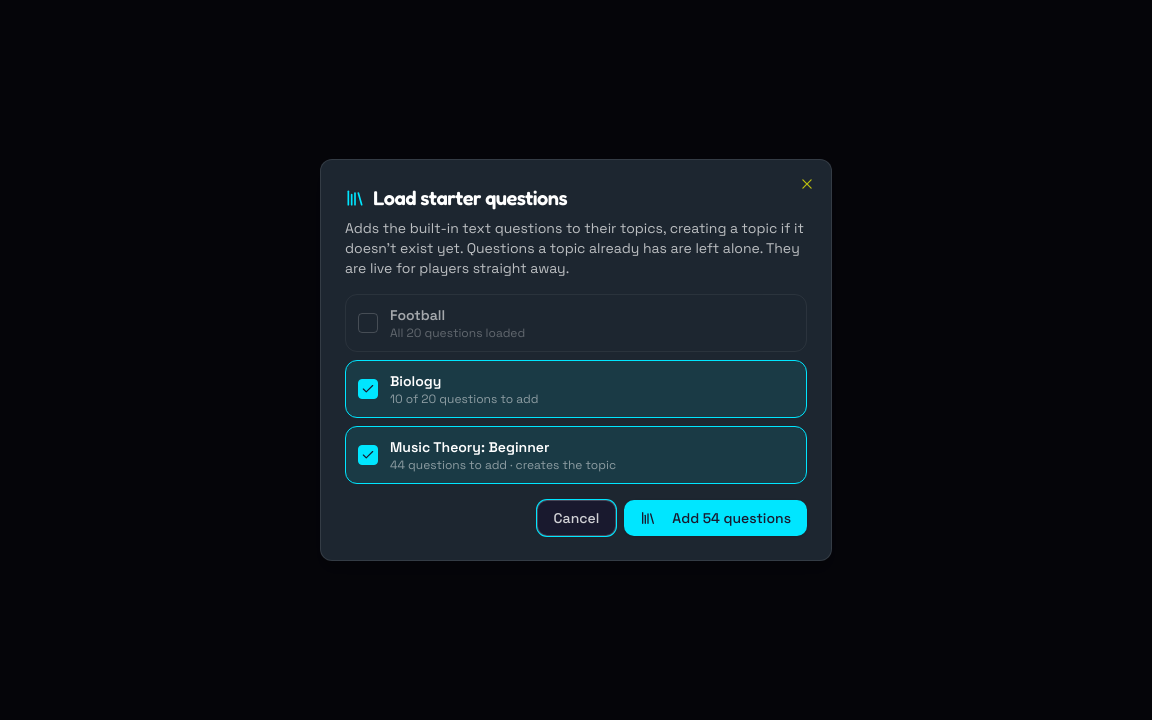
Test case: LoadStarterDialog › has nothing to send when no topic is ticked
Click the checkbox labelled "Biology".
click(416, 381)  # box x1=345 y1=360 x2=807 y2=418
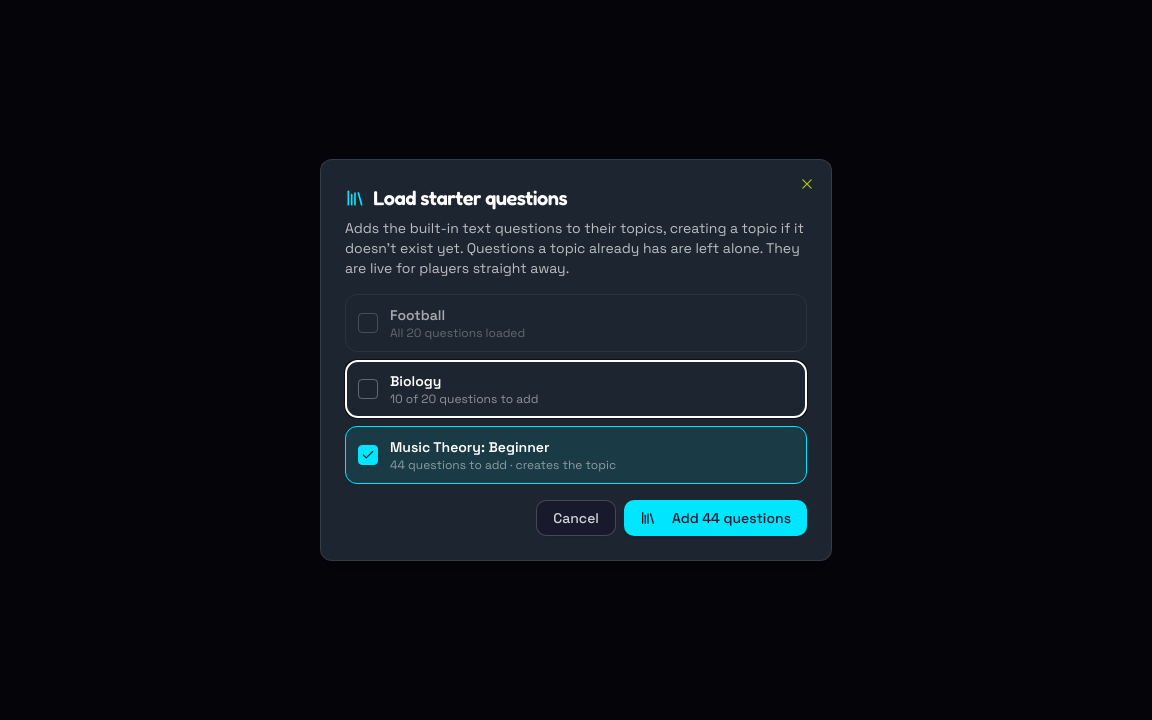
Click the checkbox labelled "Music Theory: Beginner".
click(576, 455)  # box x1=345 y1=426 x2=807 y2=484
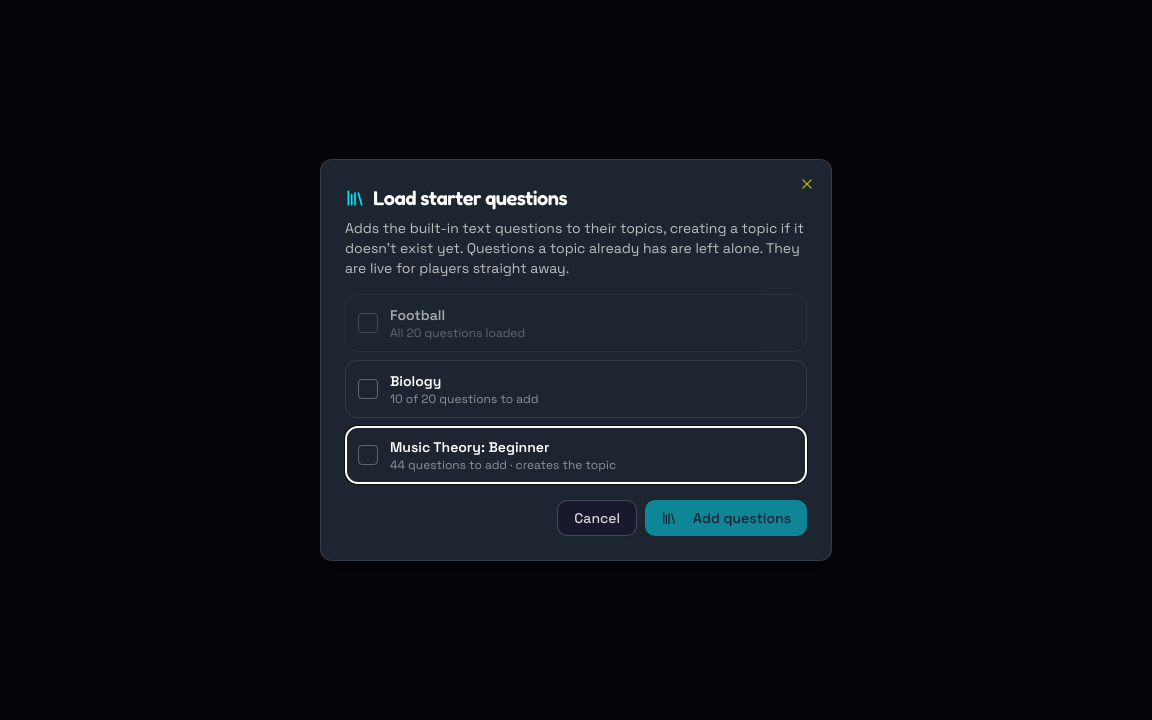
Result: the button "Add questions" is disabled at x1=645 y1=500 x2=807 y2=536
